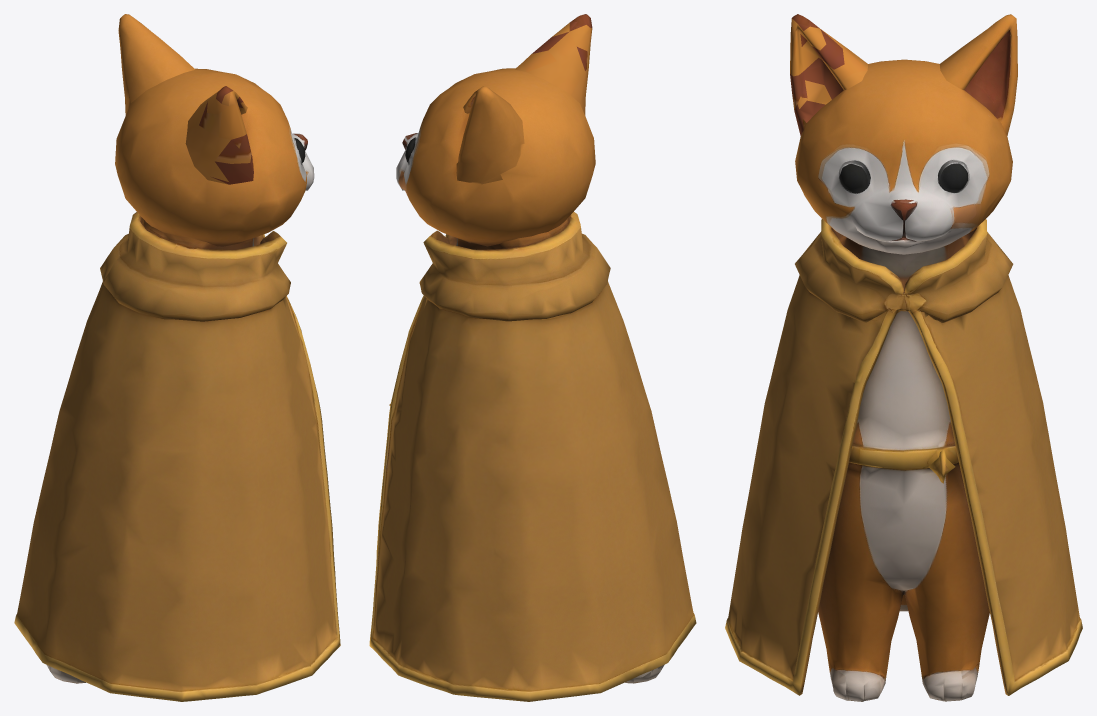
The model's file is cape-cat.glb.
3 renders of one model, left to right at view 1: azimuth 30°, elevation 25°; view 2: azimuth 150°, elevation 25°; view 3: azimuth 270°, elevation 25°, orthographic. The views are drawn at different scales.
Parts seen in each view (by area): view 1: tripo_part_4, tripo_part_3, tripo_part_5, tripo_part_0, tripo_part_7; view 2: tripo_part_4, tripo_part_3, tripo_part_5, tripo_part_7, tripo_part_0; view 3: tripo_part_4, tripo_part_1, tripo_part_3, tripo_part_5, tripo_part_7, tripo_part_0, tripo_part_6.
Boxes of the visible parts, x1,y1,x2,y2 form: tripo_part_4: (14, 281, 340, 701); tripo_part_3: (115, 68, 314, 246); tripo_part_5: (100, 212, 290, 321); tripo_part_0: (185, 86, 253, 184); tripo_part_7: (118, 14, 195, 115); tripo_part_4: (369, 281, 696, 701); tripo_part_3: (396, 68, 595, 246); tripo_part_5: (419, 212, 610, 321); tripo_part_7: (456, 86, 524, 184); tripo_part_0: (515, 14, 592, 115); tripo_part_4: (725, 275, 1082, 695); tripo_part_1: (818, 311, 989, 701); tripo_part_3: (795, 59, 1012, 254); tripo_part_5: (795, 219, 1013, 322); tripo_part_7: (939, 14, 1017, 135); tripo_part_0: (790, 14, 867, 135); tripo_part_6: (921, 671, 977, 701).
Size of the model in its own units: 0.4557 by 1 by 0.5045.
Materials: 8 (8 with a texture image).
